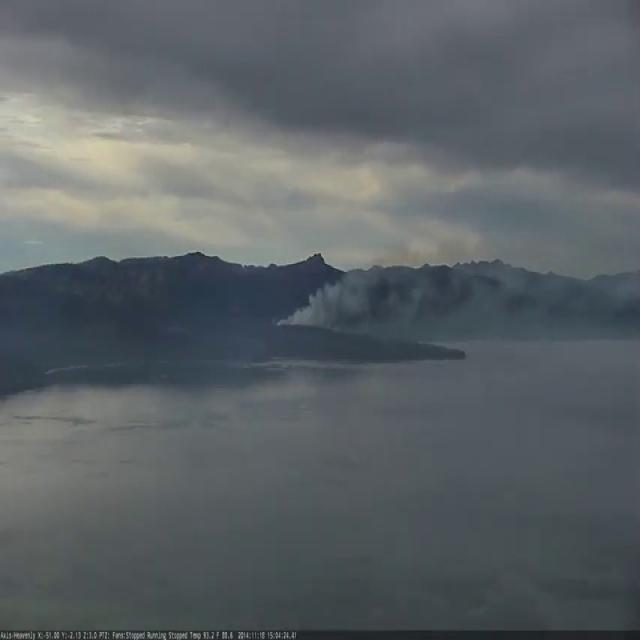smoke: (275, 226, 639, 346)
